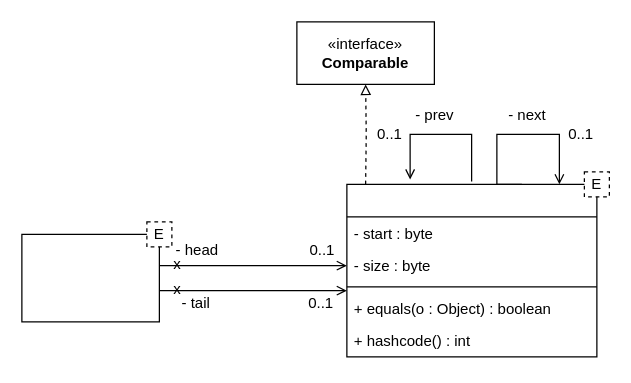
This 631x383 diagram has some shape labels left out. The shapes that lost their labels are listed below. From the top down, each one's box as (x1, y1, x2, y2) in pixels, then its label:
(21, 233, 159, 322): List
(346, 183, 597, 357): Allocation
